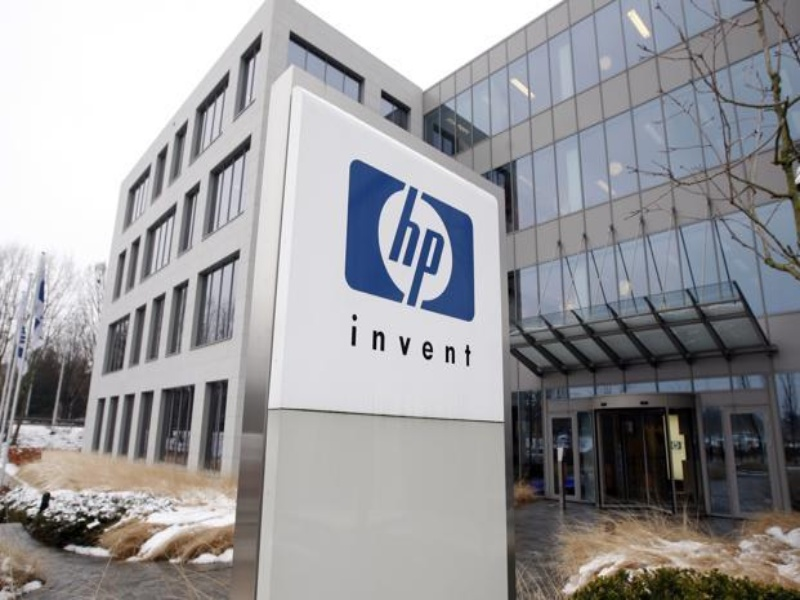hp: (376, 171, 452, 317)
